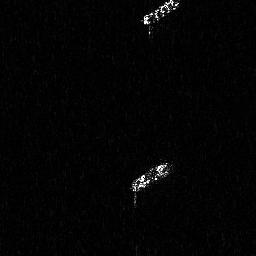ship: (126, 157, 175, 210), (139, 1, 182, 37)
